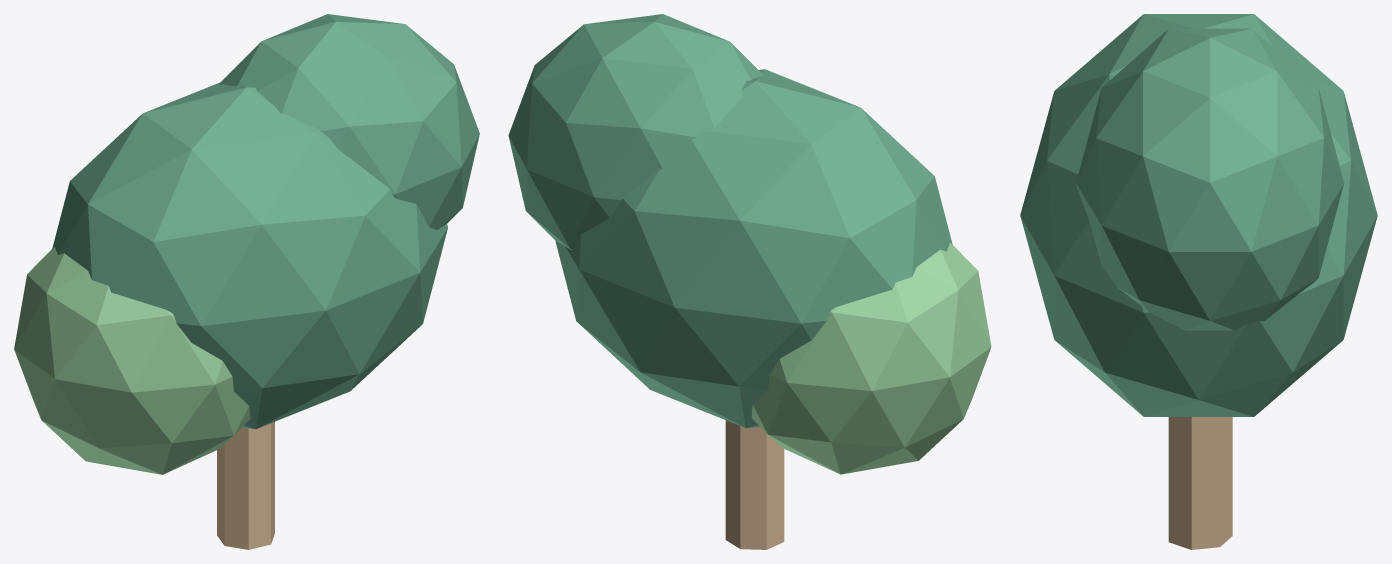
3 views of the same model, side by side, from view 1: azimuth 30°, elevation 25°; view 2: azimuth 150°, elevation 25°; view 3: azimuth 270°, elevation 25° (orthographic). The views are drawn at different scales.
Visible parts, largest first — view 1: ai_export.012; view 2: ai_export.012; view 3: ai_export.012.
Boxes of the visible parts, box(x1,y1,x2,y2) form: ai_export.012: box(14, 14, 479, 549); ai_export.012: box(508, 14, 991, 549); ai_export.012: box(1020, 14, 1377, 549).
Size of the model in its own units: 1.51 by 1.63 by 0.96.
